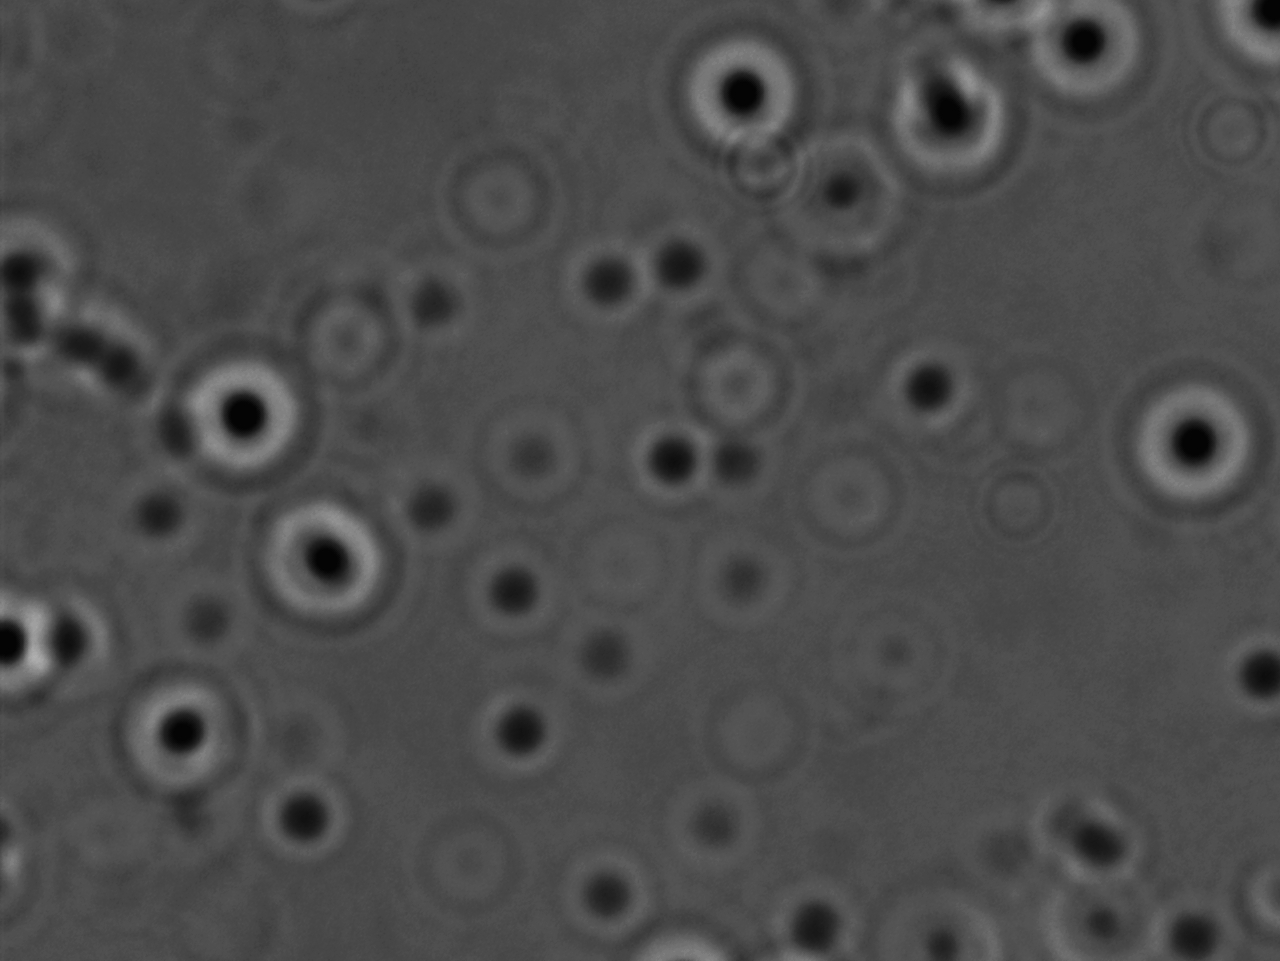depth:-32: (252, 482, 410, 637), (158, 341, 327, 482), (1121, 365, 1259, 512), (671, 26, 809, 162), (116, 671, 252, 788)
